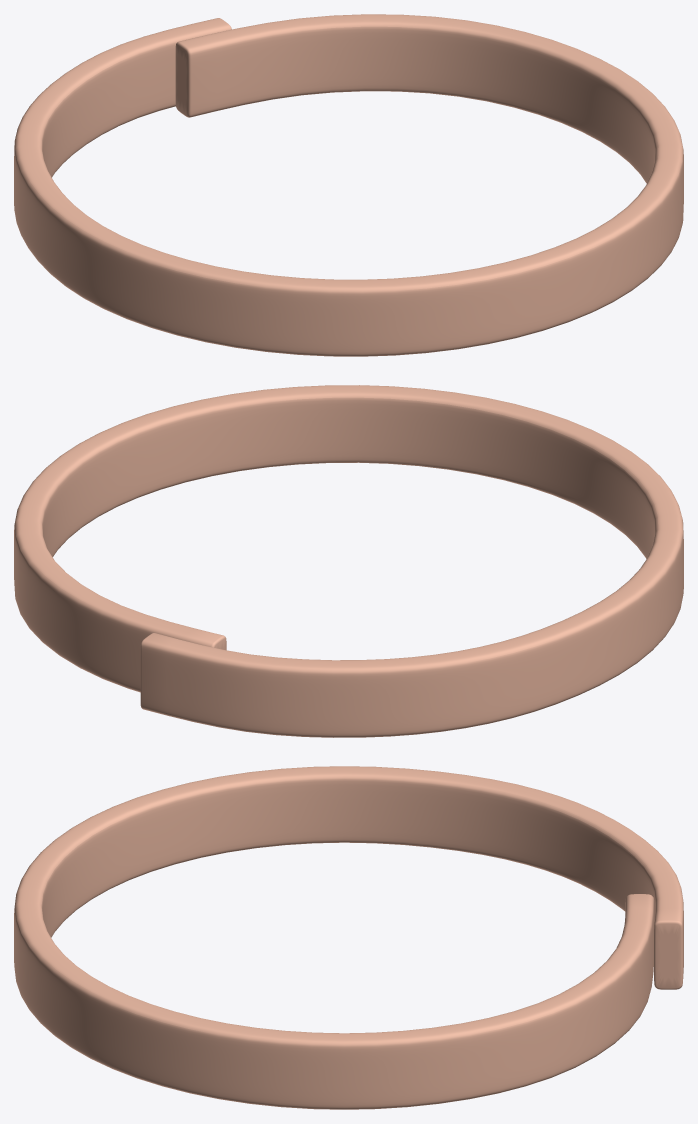
File: optimizedrose3-20260722-154022.glb
3 renders of one model, top to bottom at view 1: azimuth 30°, elevation 25°; view 2: azimuth 150°, elevation 25°; view 3: azimuth 270°, elevation 25°, orthographic.
Parts seen in each view (by area): view 1: ring_0; view 2: ring_0; view 3: ring_0.
Part boxes in pixels (box(x1,y1,x2,y2)): ring_0: box(14, 14, 683, 356); ring_0: box(14, 385, 683, 737); ring_0: box(14, 766, 683, 1109).
Bounding box in the file's own units: 3.25 × 0.3758 × 3.29.
